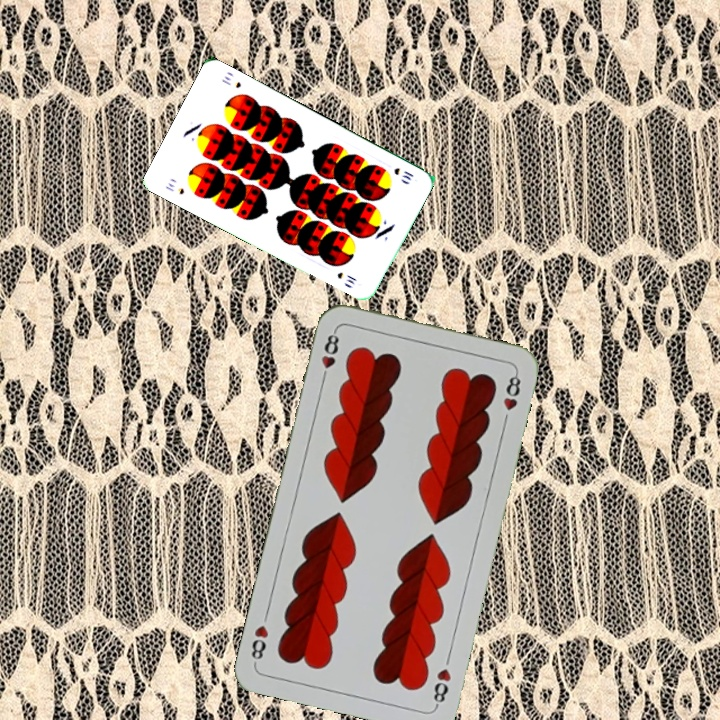H8: (317, 326, 342, 385), (429, 664, 454, 710)
S10: (390, 164, 416, 183), (161, 179, 187, 197)
